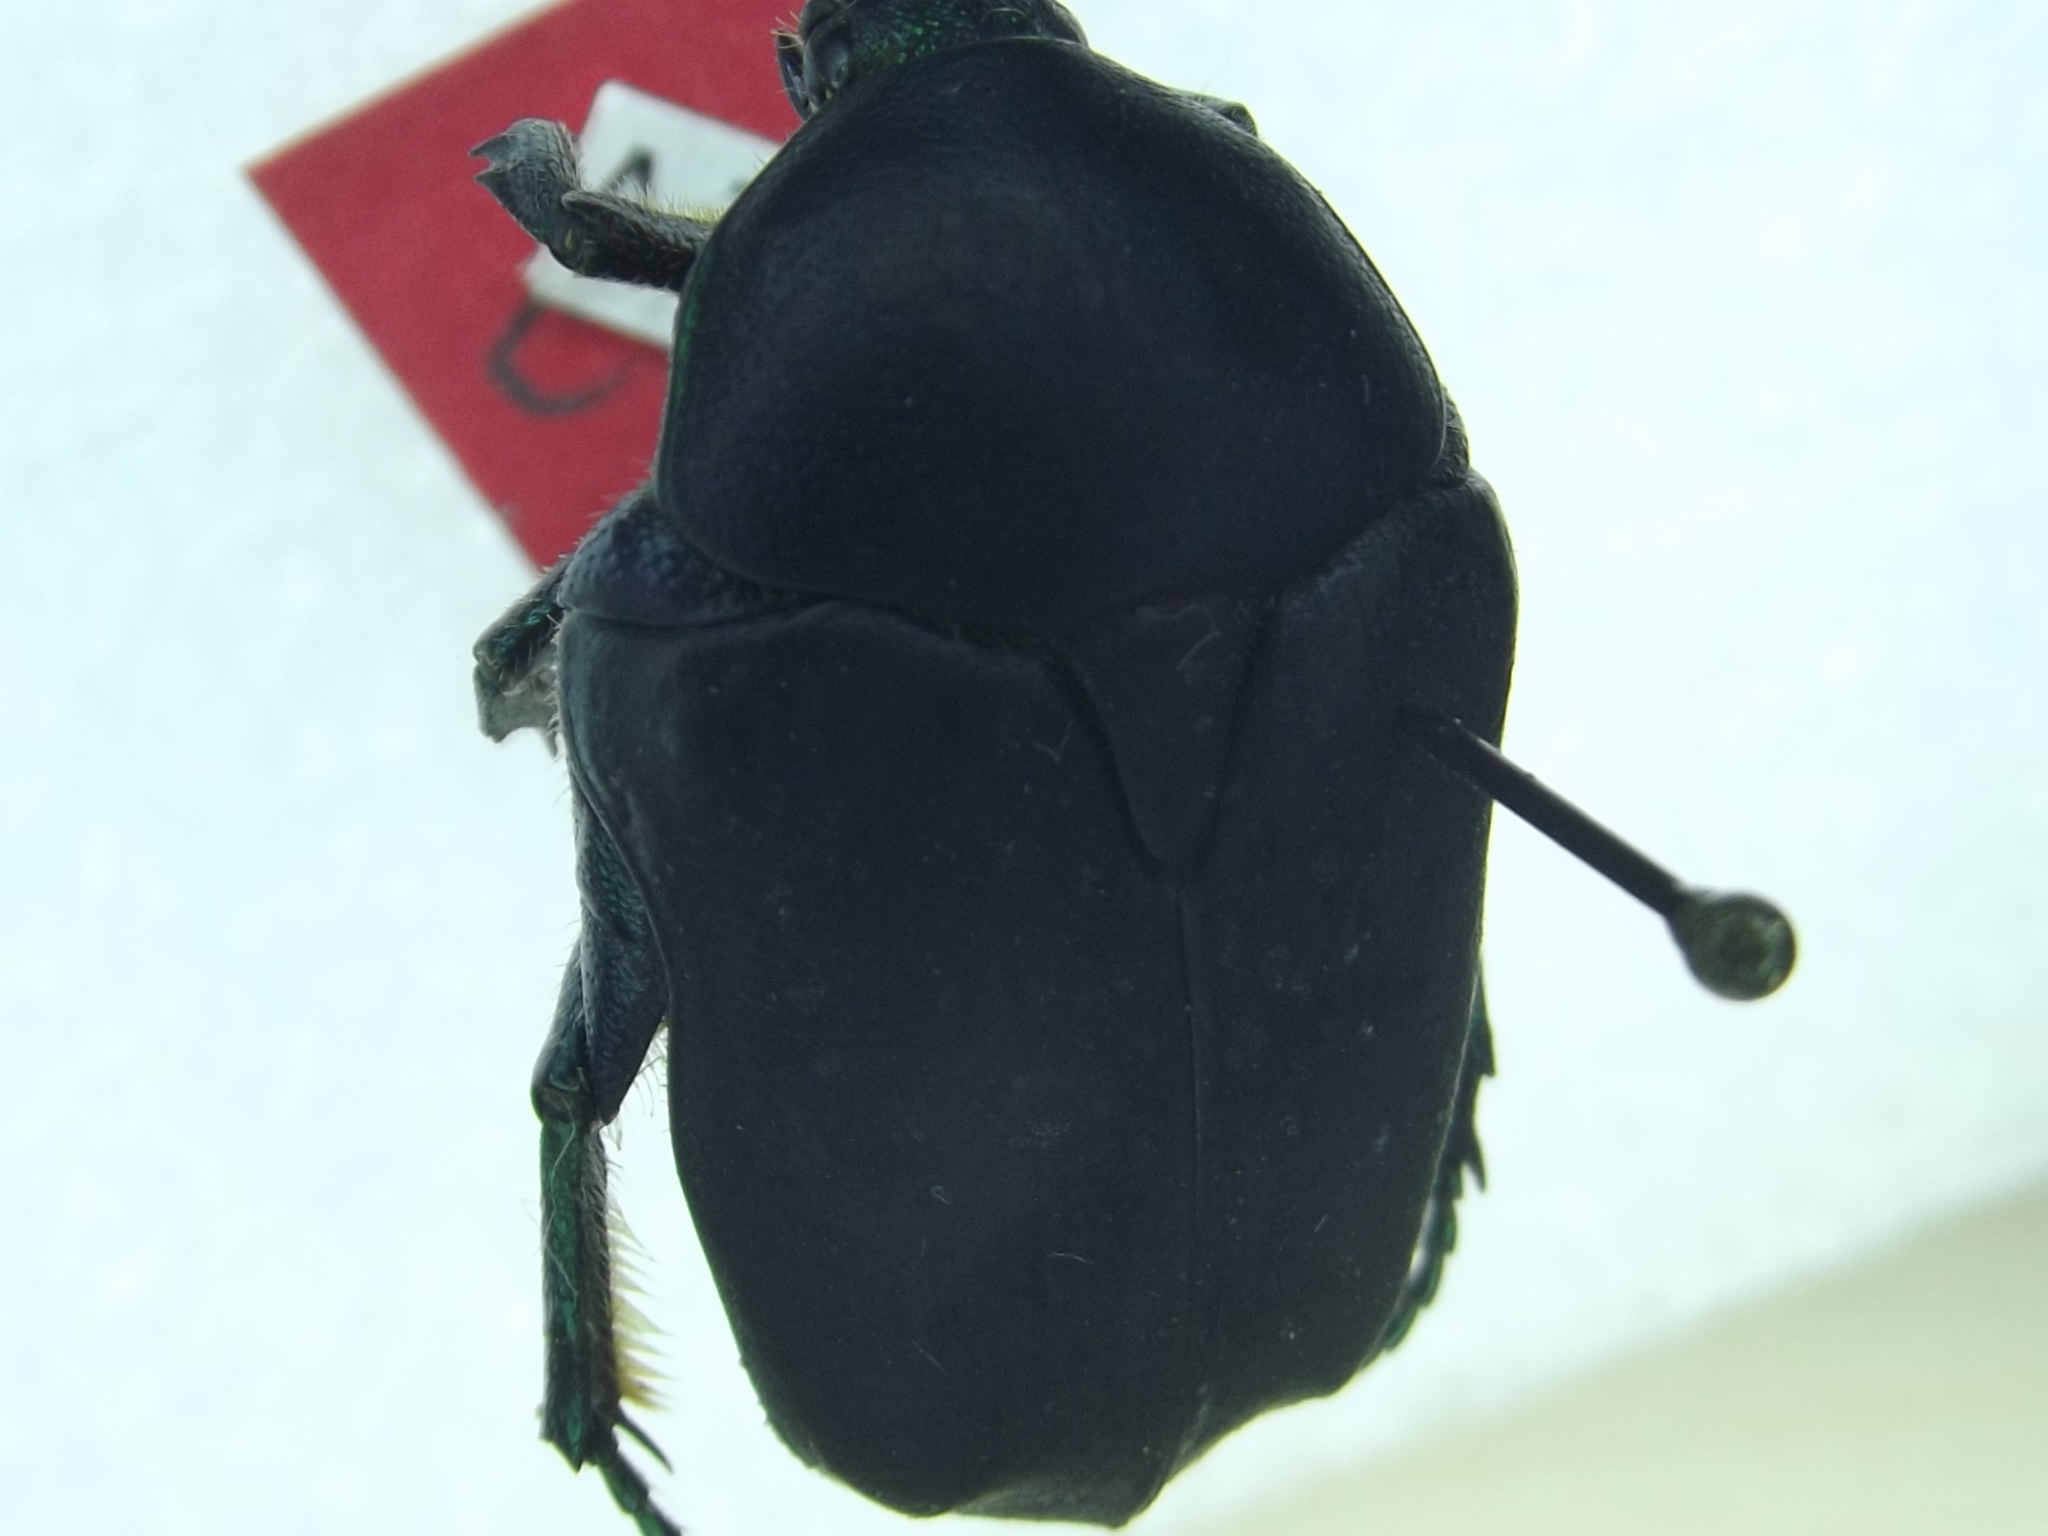Protaetia_afflicta: (408, 3, 1530, 1505)
